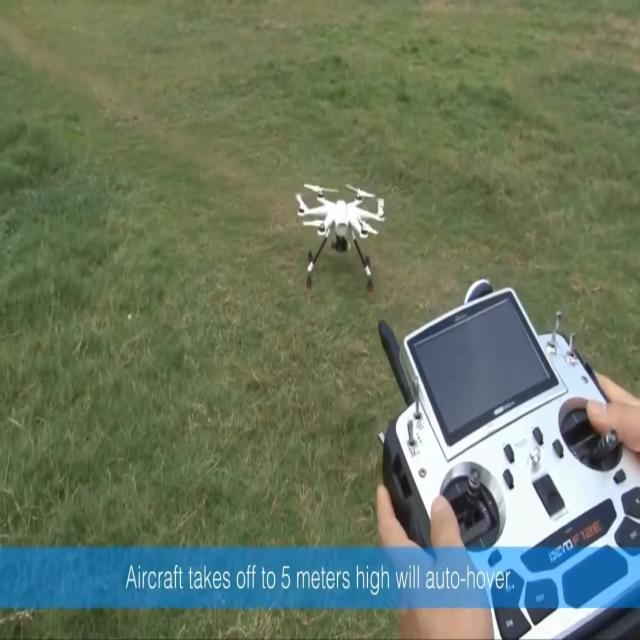drone: (295, 182, 385, 294)
